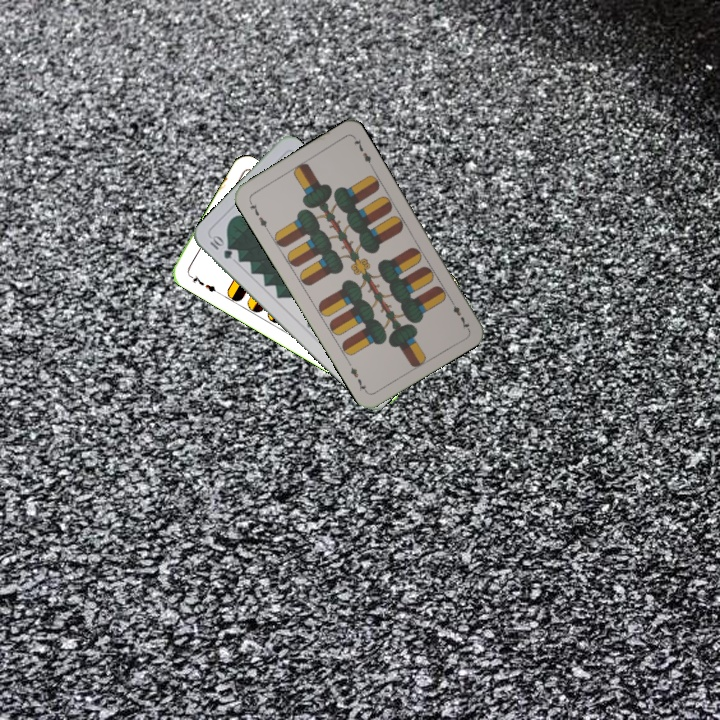E7: (184, 270, 221, 296), (245, 196, 271, 233), (446, 295, 472, 332)
G10: (206, 232, 235, 262)
